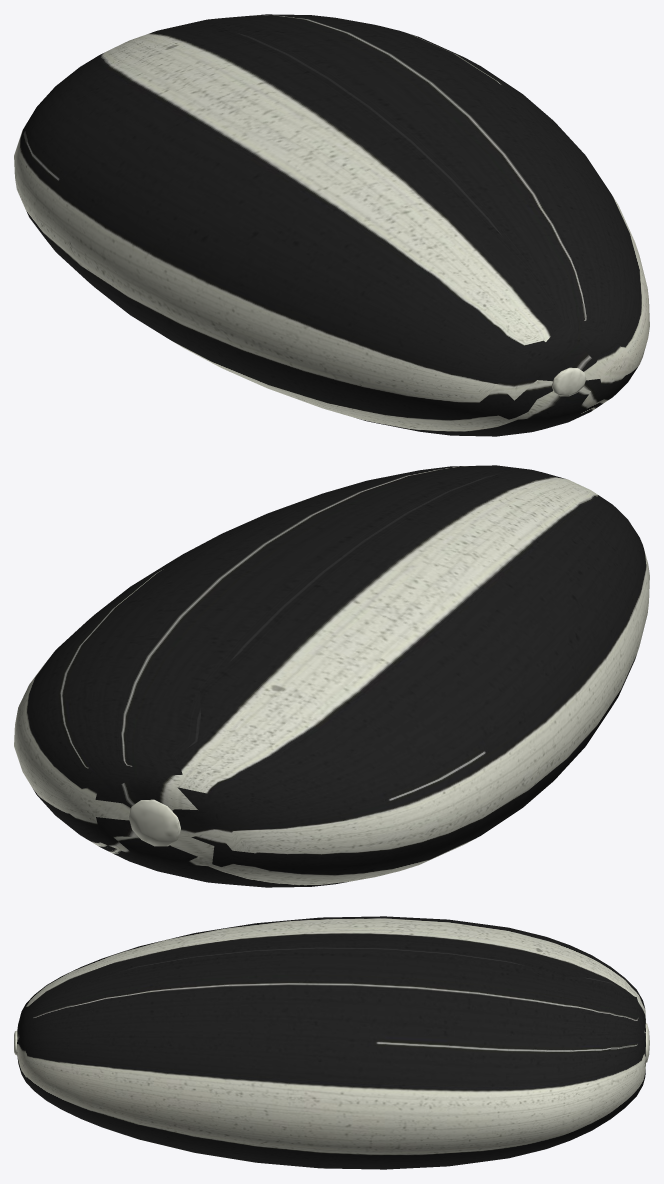
File: cage_seed.glb
The picture shows the model from 3 angles, top to bottom: view 1: azimuth 30°, elevation 25°; view 2: azimuth 150°, elevation 25°; view 3: azimuth 270°, elevation 25°; orthographic projection. The views are drawn at different scales.
Visible parts, largest first — view 1: cage_seed; view 2: cage_seed; view 3: cage_seed.
Boxes of the visible parts, bbox=[...] form: cage_seed: bbox=[14, 14, 649, 436]; cage_seed: bbox=[14, 465, 649, 887]; cage_seed: bbox=[14, 916, 649, 1169].
Size of the model in its own units: 1.38 by 0.7324 by 2.2.
1 material, 1 textured.
